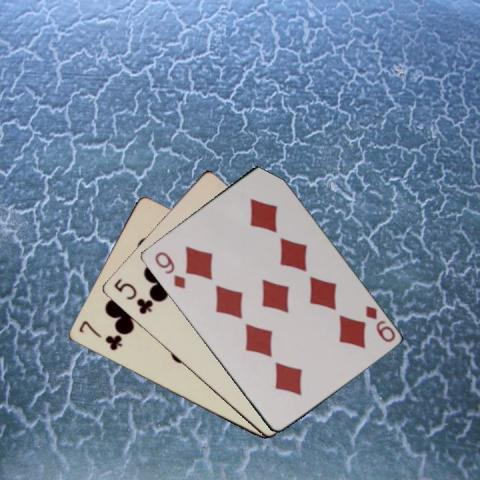5c: (110, 275, 154, 316)
7c: (76, 318, 124, 352)
9d: (150, 248, 186, 290), (362, 302, 397, 344)
